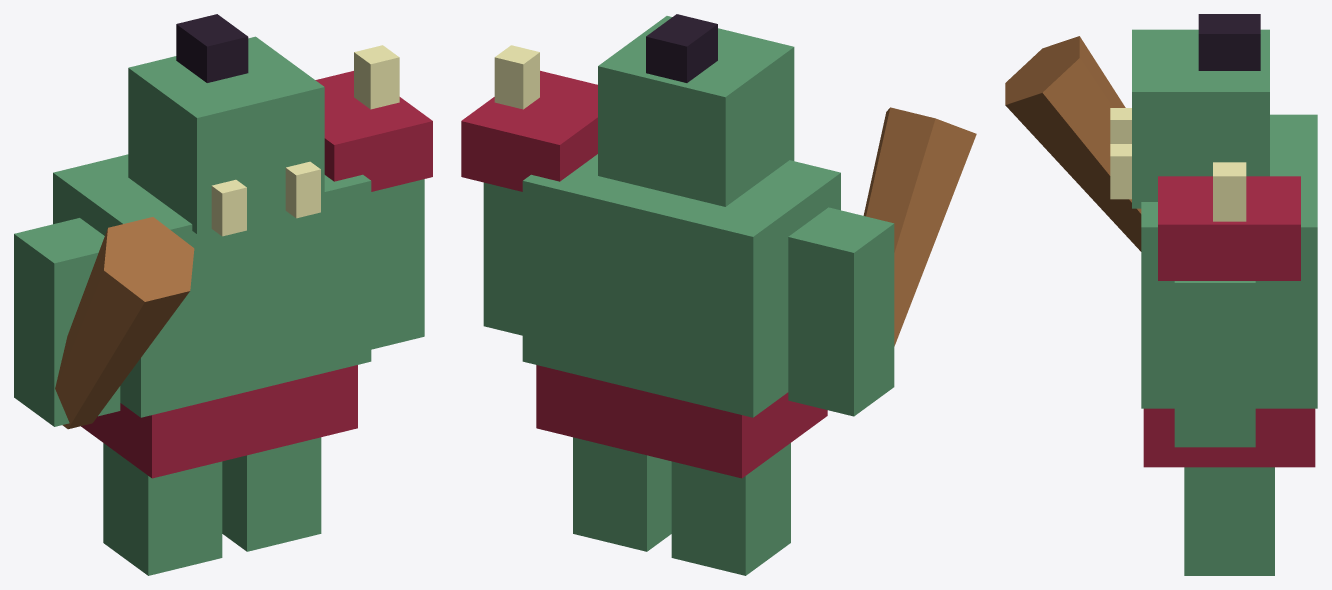
Rendered from brute.glb.
3 views of the same model, side by side, from view 1: azimuth 30°, elevation 25°; view 2: azimuth 150°, elevation 25°; view 3: azimuth 270°, elevation 25° (orthographic).
Parts seen in each view (by area): view 1: Model; view 2: Model; view 3: Model.
Boxes of the visible parts, left/top/right/bottom form: Model: left=14, top=14, right=432, bottom=575; Model: left=461, top=14, right=976, bottom=575; Model: left=1005, top=14, right=1317, bottom=575.
Size of the model in its own units: 0.94 by 1.18 by 0.6557.
